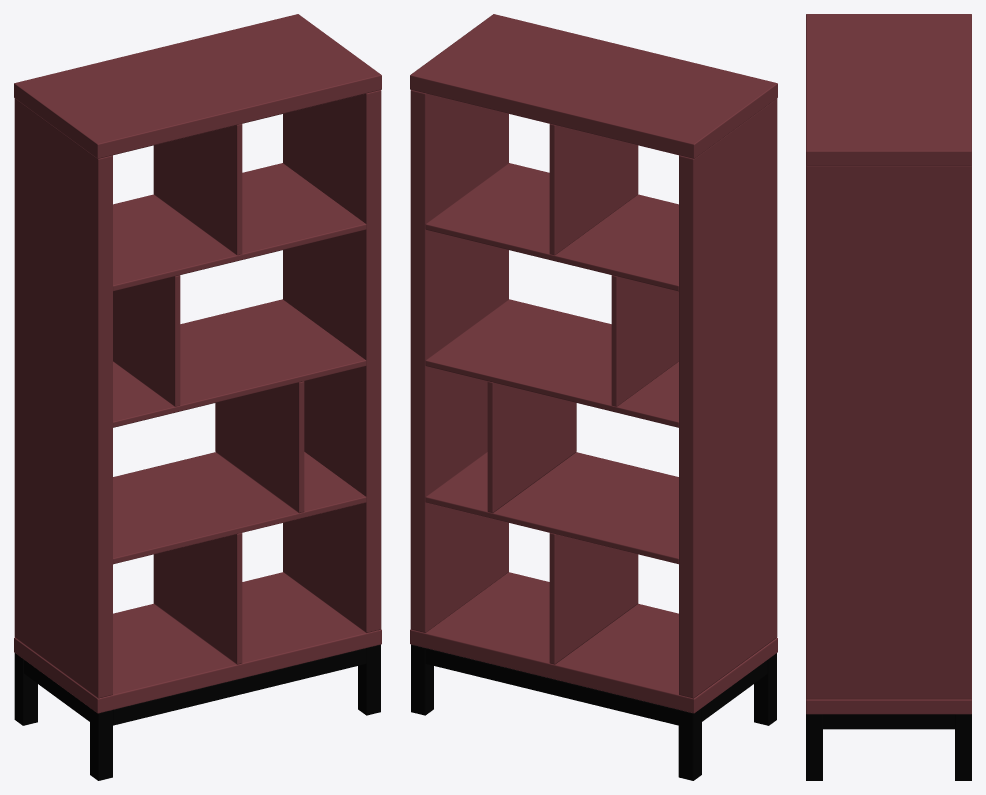
3 views of the same model, side by side, from view 1: azimuth 30°, elevation 25°; view 2: azimuth 150°, elevation 25°; view 3: azimuth 270°, elevation 25° (orthographic).
Parts seen in each view (by area): view 1: Box011, Box002; view 2: Box011, Box002; view 3: Box011, Box002.
Part boxes in pixels (x1,y1,x2,y2): Box011: [14, 14, 381, 713]; Box002: [14, 644, 380, 780]; Box011: [410, 14, 777, 713]; Box002: [411, 644, 776, 780]; Box011: [806, 14, 971, 714]; Box002: [806, 714, 971, 780].
Bounding box in the file's own units: 0.7647 × 1.64 × 0.3905.
